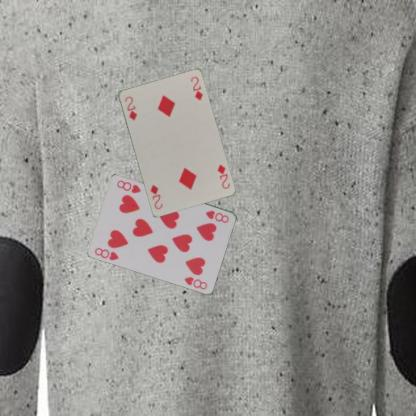2d: (214, 161, 231, 190), (122, 94, 138, 121)
8h: (93, 245, 120, 262), (204, 208, 231, 224)
